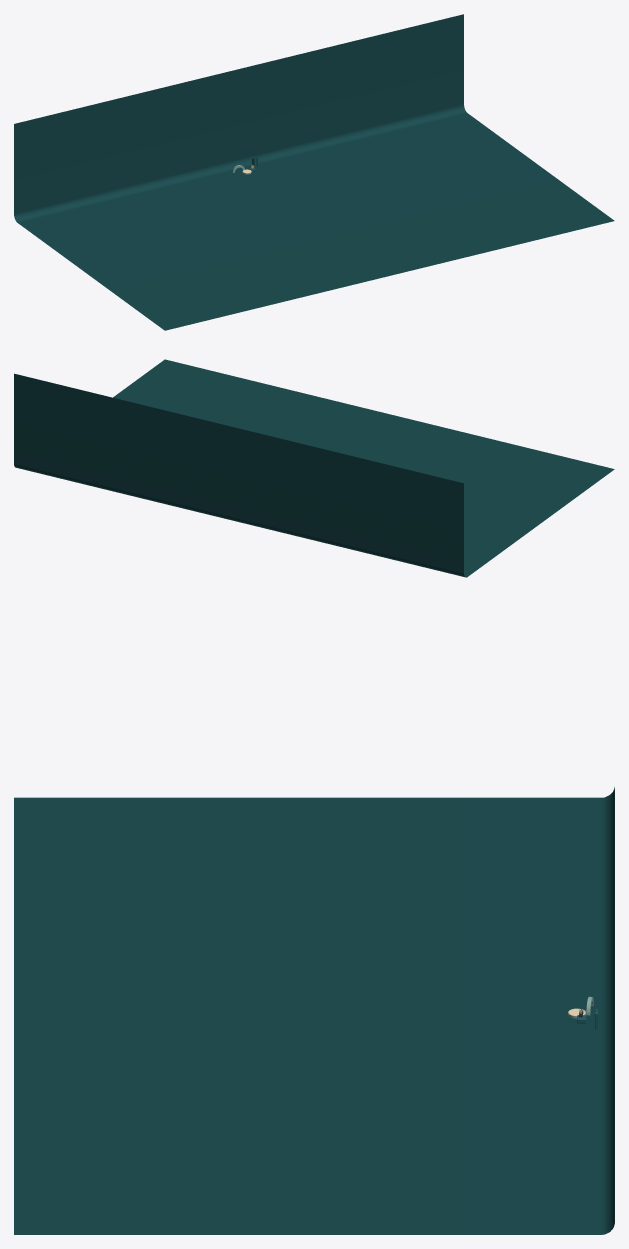
File: escapement.glb
The picture shows the model from 3 angles, top to bottom: view 1: azimuth 30°, elevation 25°; view 2: azimuth 150°, elevation 25°; view 3: azimuth 270°, elevation 25°; orthographic projection. The views are drawn at different scales.
Parts seen in each view (by area): view 1: Cyclorama; view 2: Cyclorama; view 3: Cyclorama.
Part boxes in pixels (left/top/right/bottom): Cyclorama: left=14, top=14, right=614, bottom=330; Cyclorama: left=14, top=359, right=614, bottom=577; Cyclorama: left=14, top=787, right=614, bottom=1234.
Size of the model in its own units: 220 by 45 by 128.
Materials: 6 (1 with a texture image).
